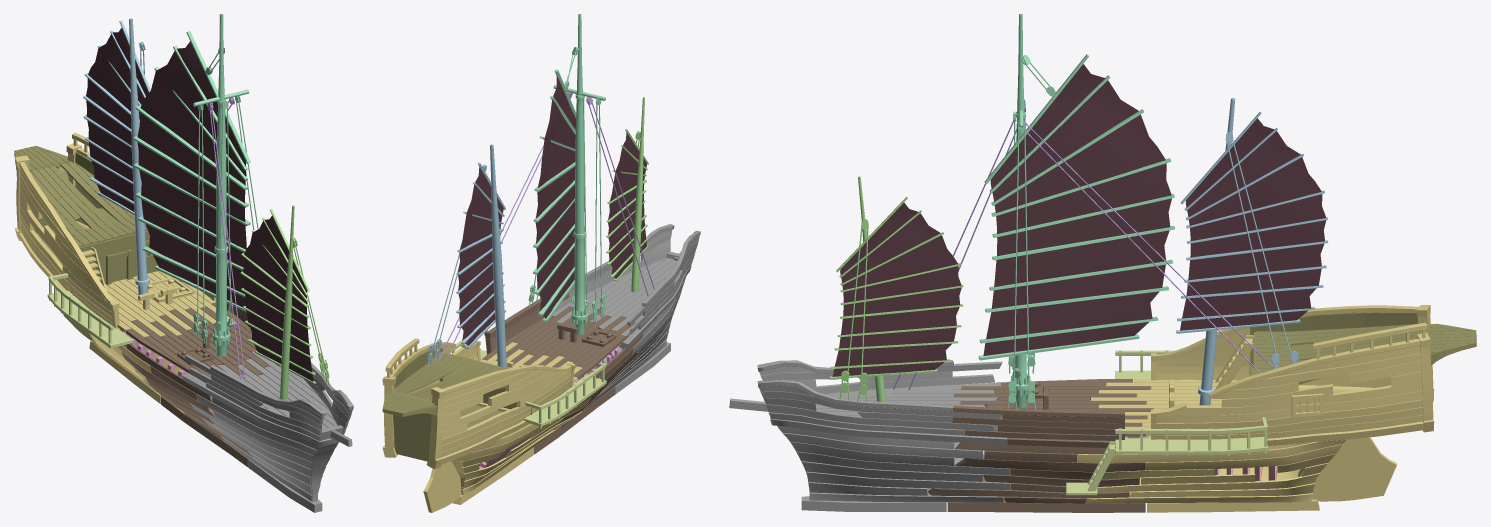
File: shipwrexk.fbx
3 renders of one model, left to right at view 1: azimuth 30°, elevation 25°; view 2: azimuth 150°, elevation 25°; view 3: azimuth 270°, elevation 25°, orthographic. The views are drawn at different scales.
Parts seen in each view (by area): view 1: polySurface346, shipwreck1:polySurface167, shipwreck:polySurface223, polySurface347, shipwreck:pCube50, shipwreck:pCube4, polySurface348, polySurface344, polySurface349, polySurface345, shipwreck:pCube51, polySurface340; view 2: shipwreck:polySurface223, shipwreck1:polySurface167, shipwreck:pCube50, polySurface347, polySurface346, shipwreck:pCube4, polySurface348, polySurface349, polySurface344, polySurface345, shipwreck:pCube51, polySurface340; view 3: shipwreck:polySurface223, polySurface346, shipwreck1:polySurface167, polySurface348, shipwreck:pCube50, polySurface344, polySurface347, shipwreck:pCube4, polySurface349, shipwreck:pCube51, polySurface345, polySurface340.
Boxes of the visible parts, x1=… form: polySurface346: x1=137, y1=41, x2=246, y2=307; shipwreck1:polySurface167: x1=182, y1=351, x2=353, y2=512; shipwreck:polySurface223: x1=14, y1=132, x2=236, y2=414; polySurface347: x1=133, y1=14, x2=258, y2=356; shipwreck:pCube50: x1=121, y1=302, x2=278, y2=466; shipwreck:pCube4: x1=14, y1=146, x2=158, y2=295; polySurface348: x1=86, y1=28, x2=148, y2=211; polySurface344: x1=243, y1=216, x2=313, y2=381; polySurface349: x1=83, y1=18, x2=150, y2=295; polySurface345: x1=240, y1=205, x2=329, y2=399; shipwreck:pCube51: x1=47, y1=273, x2=133, y2=348; polySurface340: x1=207, y1=97, x2=245, y2=382; shipwreck:polySurface223: x1=382, y1=338, x2=600, y2=512; shipwreck1:polySurface167: x1=552, y1=224, x2=700, y2=403; shipwreck:pCube50: x1=482, y1=293, x2=642, y2=453; polySurface347: x1=528, y1=14, x2=605, y2=334; polySurface346: x1=535, y1=75, x2=575, y2=318; shipwreck:pCube4: x1=382, y1=347, x2=531, y2=461; polySurface348: x1=458, y1=166, x2=503, y2=345; polySurface349: x1=427, y1=144, x2=506, y2=367; polySurface344: x1=608, y1=132, x2=646, y2=278; polySurface345: x1=606, y1=97, x2=648, y2=292; shipwreck:pCube51: x1=450, y1=339, x2=606, y2=428; polySurface340: x1=438, y1=92, x2=654, y2=361; shipwreck:polySurface223: x1=1077, y1=305, x2=1434, y2=512; polySurface346: x1=983, y1=64, x2=1171, y2=355; shipwreck1:polySurface167: x1=729, y1=360, x2=1010, y2=511; polySurface348: x1=1180, y1=118, x2=1326, y2=330; shipwreck:pCube50: x1=928, y1=379, x2=1153, y2=512; polySurface344: x1=832, y1=202, x2=961, y2=376; polySurface347: x1=978, y1=14, x2=1174, y2=409; shipwreck:pCube4: x1=1249, y1=312, x2=1476, y2=384; polySurface349: x1=1176, y1=98, x2=1328, y2=405; shipwreck:pCube51: x1=1066, y1=350, x2=1268, y2=495; polySurface345: x1=829, y1=176, x2=963, y2=402; polySurface340: x1=893, y1=107, x2=1273, y2=390.
Size of the model in its own units: 9.97 by 28.3 by 38.92.
